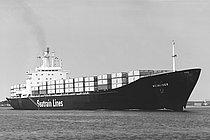Ship: (4, 37, 205, 116)
